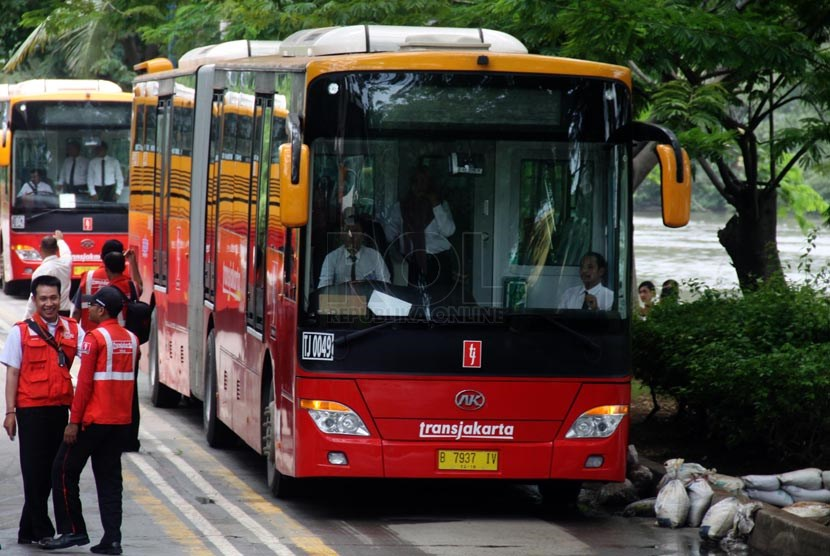plate: (439, 451, 498, 471)
